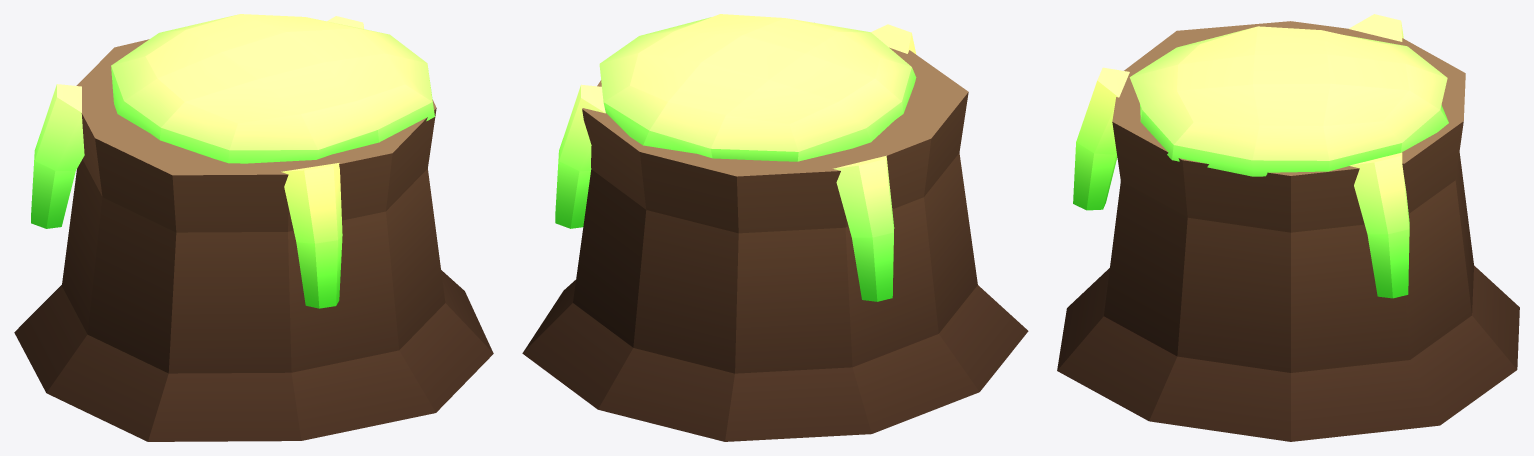
Rendered from PlayGround_Kit_Stump_Slime.fbx.
3 renders of one model, left to right at view 1: azimuth 30°, elevation 25°; view 2: azimuth 150°, elevation 25°; view 3: azimuth 270°, elevation 25°, orthographic.
Visible parts, largest first — view 1: PlayGround_Kit_Stump_Slime; view 2: PlayGround_Kit_Stump_Slime; view 3: PlayGround_Kit_Stump_Slime.
Boxes of the visible parts, x1,y1,x2,y2 form: PlayGround_Kit_Stump_Slime: [14, 14, 493, 441]; PlayGround_Kit_Stump_Slime: [522, 14, 1028, 441]; PlayGround_Kit_Stump_Slime: [1057, 14, 1519, 441].
Size of the model in its own units: 1.08 by 0.6986 by 1.04.
